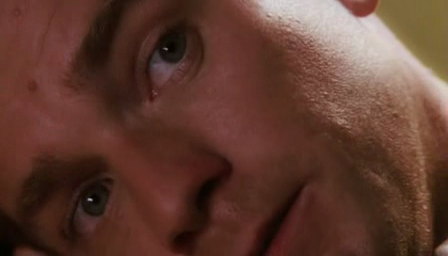ecu: (1, 1, 448, 256)
face: (1, 1, 434, 256)
person: (1, 1, 448, 256)
